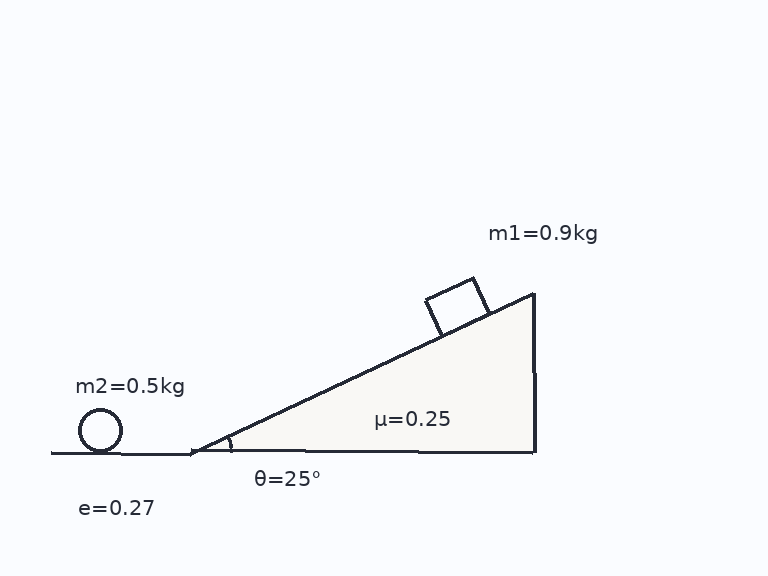ball: (76, 406, 124, 454)
block: (422, 276, 491, 338)
ramp: (189, 291, 534, 454)
